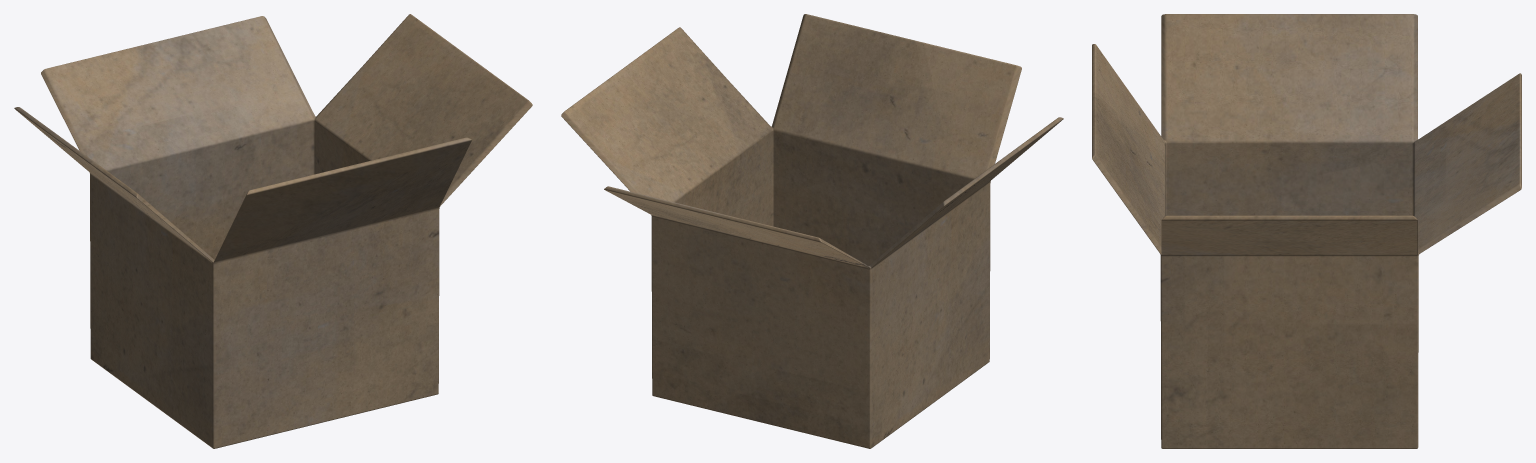
The picture shows the model from 3 angles, left to right: view 1: azimuth 30°, elevation 25°; view 2: azimuth 150°, elevation 25°; view 3: azimuth 270°, elevation 25°; orthographic projection. The views are drawn at different scales.
Visible parts, largest first — view 1: FG Box 2_dup_2.Shape; view 2: FG Box 2_dup_2.Shape; view 3: FG Box 2_dup_2.Shape.
Boxes of the visible parts, x1,y1,x2,y2 form: FG Box 2_dup_2.Shape: [14, 14, 532, 448]; FG Box 2_dup_2.Shape: [561, 14, 1063, 448]; FG Box 2_dup_2.Shape: [1092, 14, 1521, 448].
Bounding box in the file's own units: 38.91 × 26.43 × 35.15.
1 material, 1 textured.
